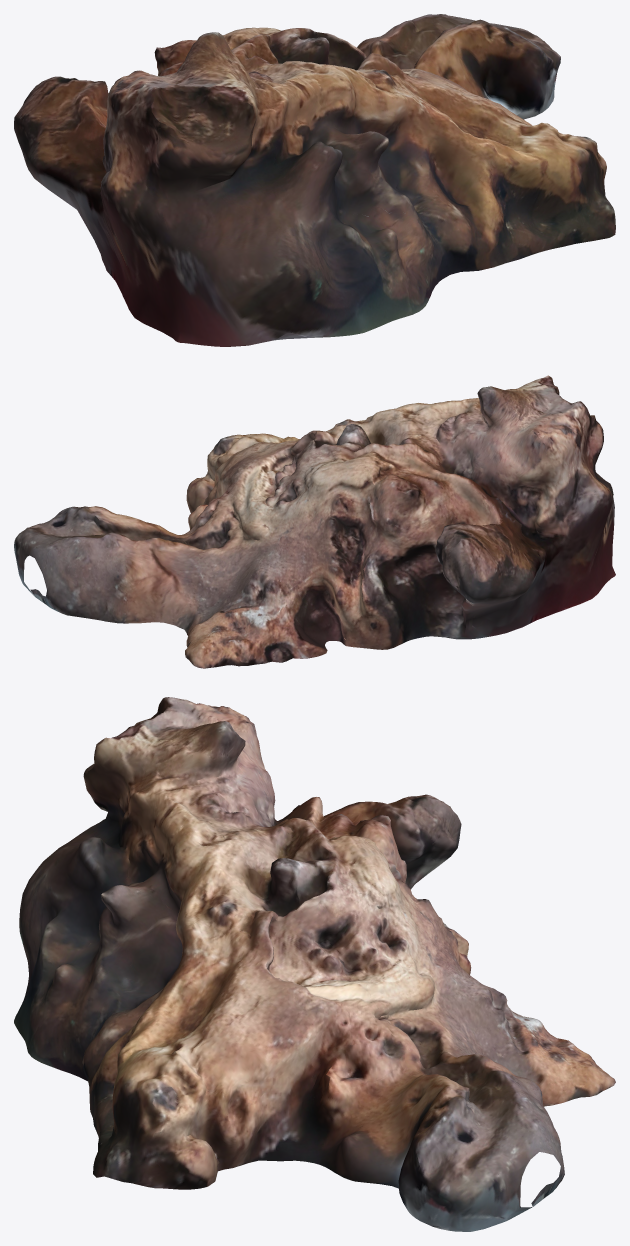
The model's file is petrified_peice_of_wood.glb.
3 views of the same model, one above another, from view 1: azimuth 30°, elevation 25°; view 2: azimuth 150°, elevation 25°; view 3: azimuth 270°, elevation 25° (orthographic). The views are drawn at different scales.
Visible parts, largest first — view 1: Object_4; view 2: Object_4; view 3: Object_4.
Boxes of the visible parts, x1,y1,x2,y2 form: Object_4: (14, 14, 615, 346); Object_4: (14, 375, 615, 668); Object_4: (14, 697, 615, 1231).
Bounding box in the file's own units: 1.1 × 0.4447 × 0.9041.
1 material, 1 textured.
